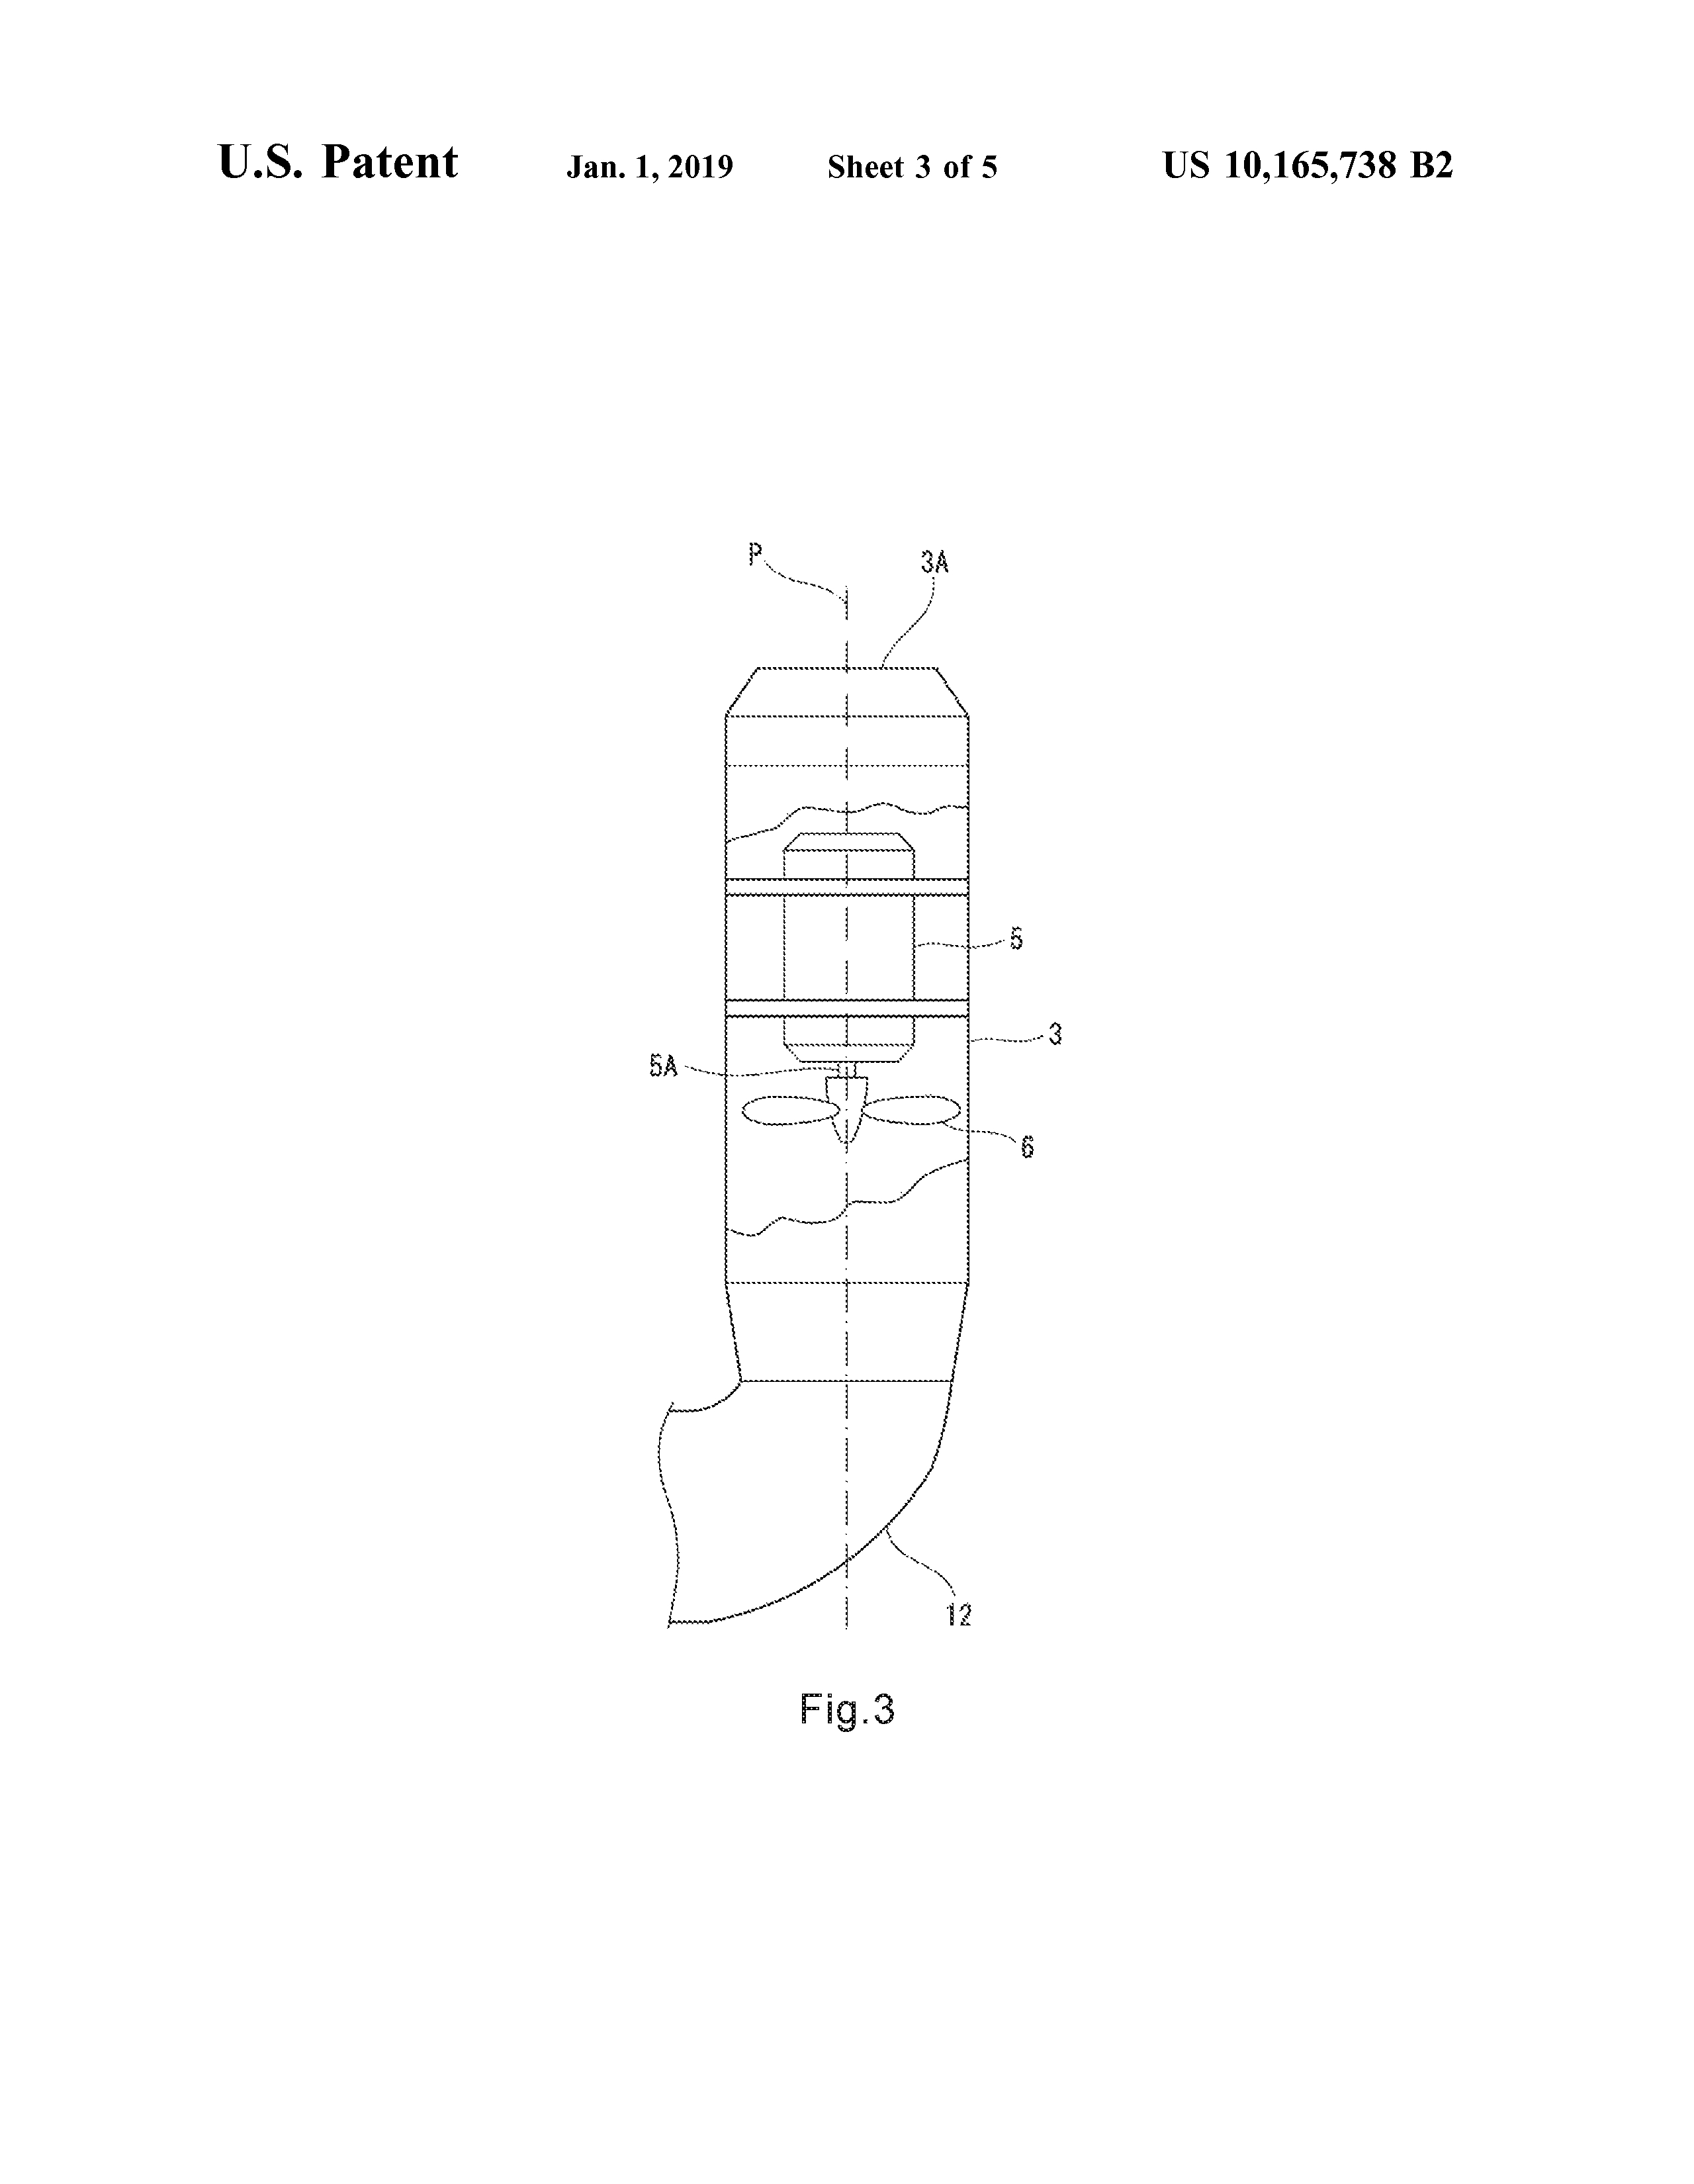patent image: (575, 405, 1104, 1842)
